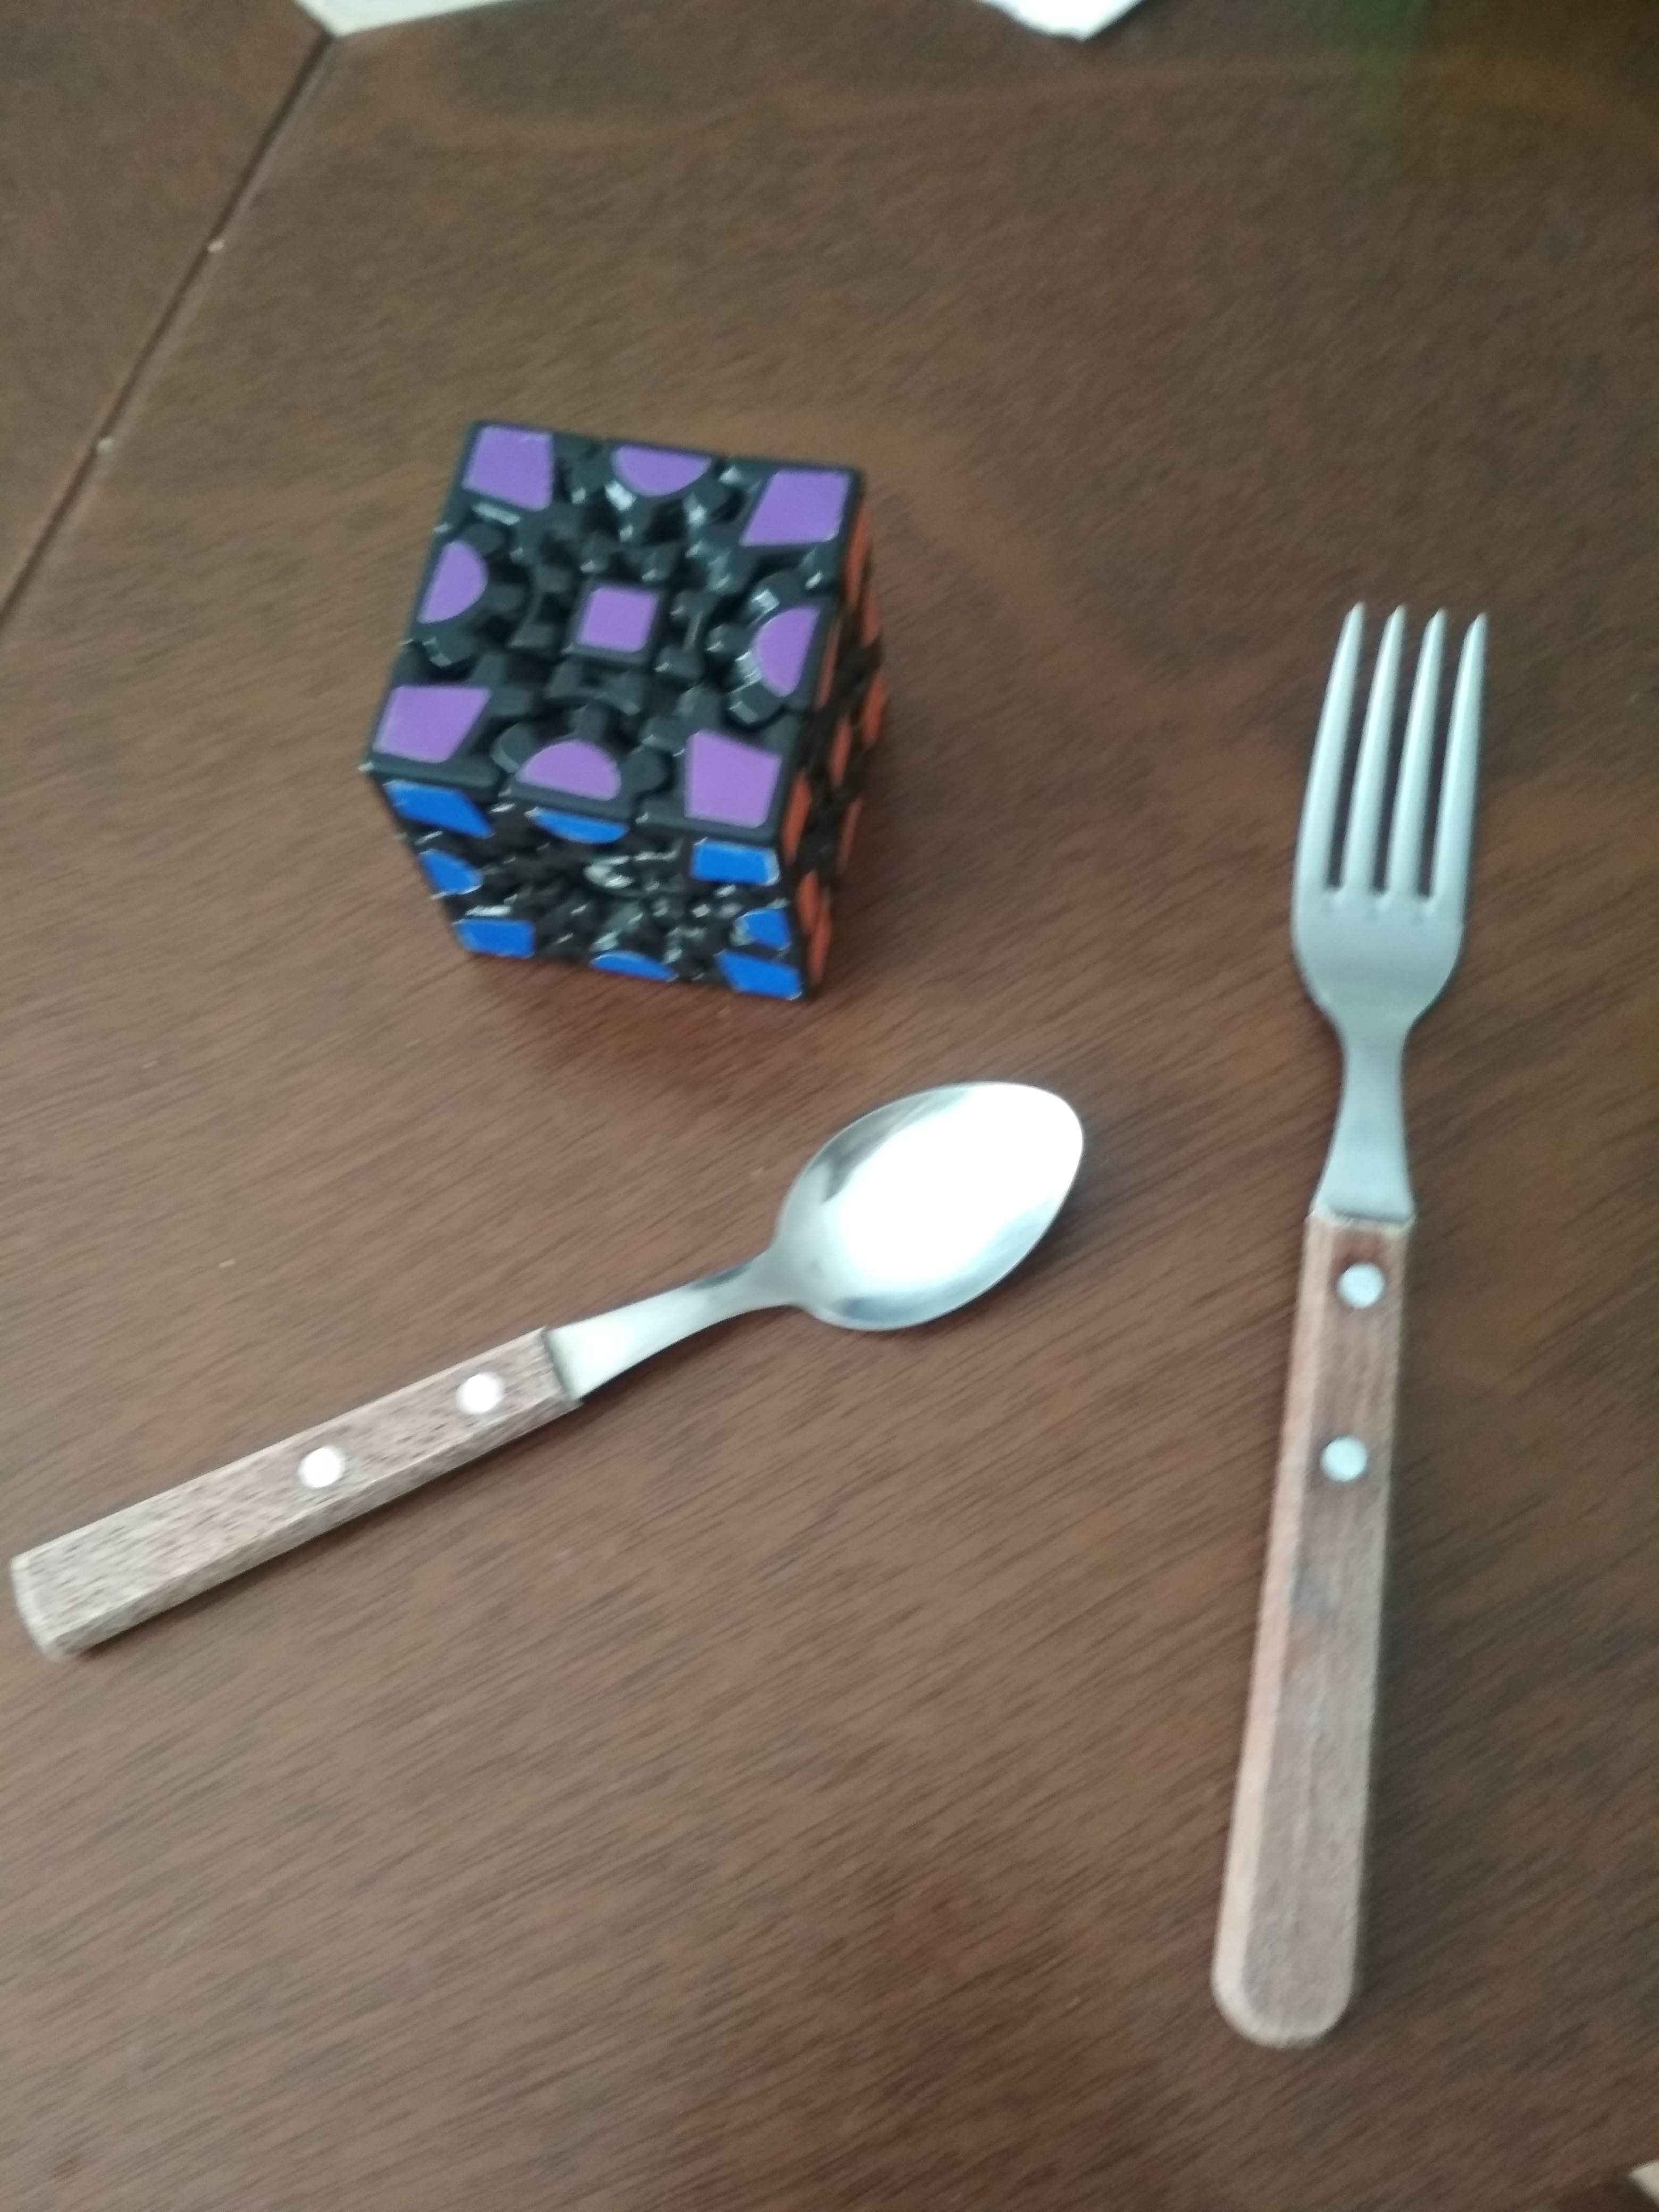fork: (1187, 582, 1513, 2073)
rubik_cube: (343, 406, 915, 1021)
spoon: (0, 1064, 1103, 1681)
